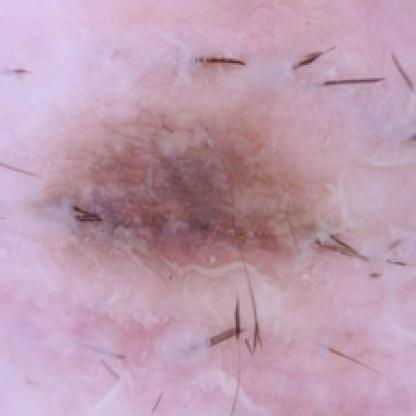benign: (58, 100, 334, 266)
